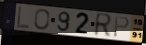2: (74, 12, 91, 36)
9: (58, 11, 72, 33)
L: (15, 5, 30, 30)
O: (33, 8, 51, 31)
P: (113, 15, 131, 38)
R: (93, 12, 114, 39)
